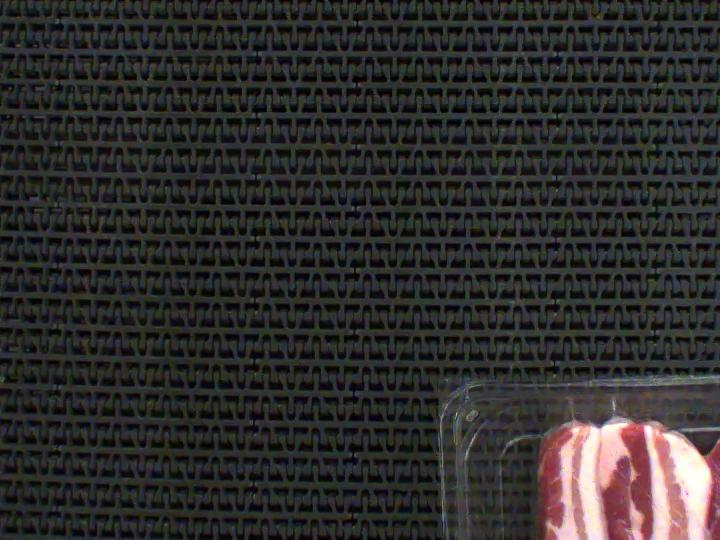packaging-error: (549, 392, 594, 424), (597, 391, 631, 420)
